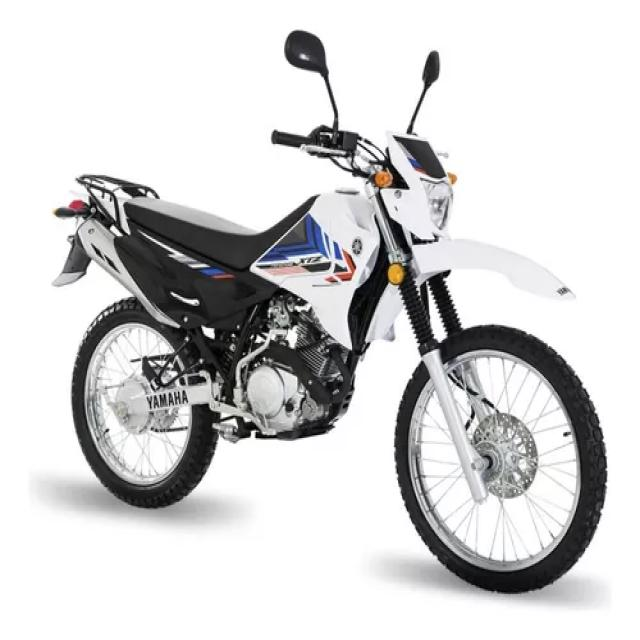MOTORCYCLE: (57, 96, 613, 599)
